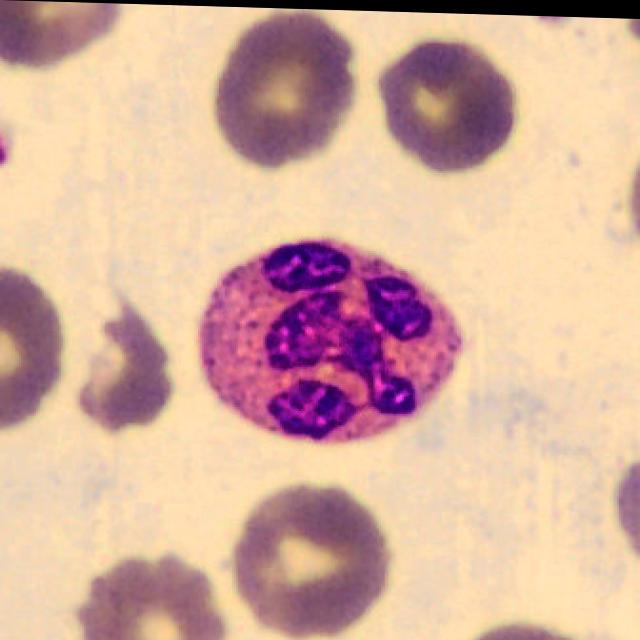Neutrofilo segmentado: (200, 236, 465, 444)
